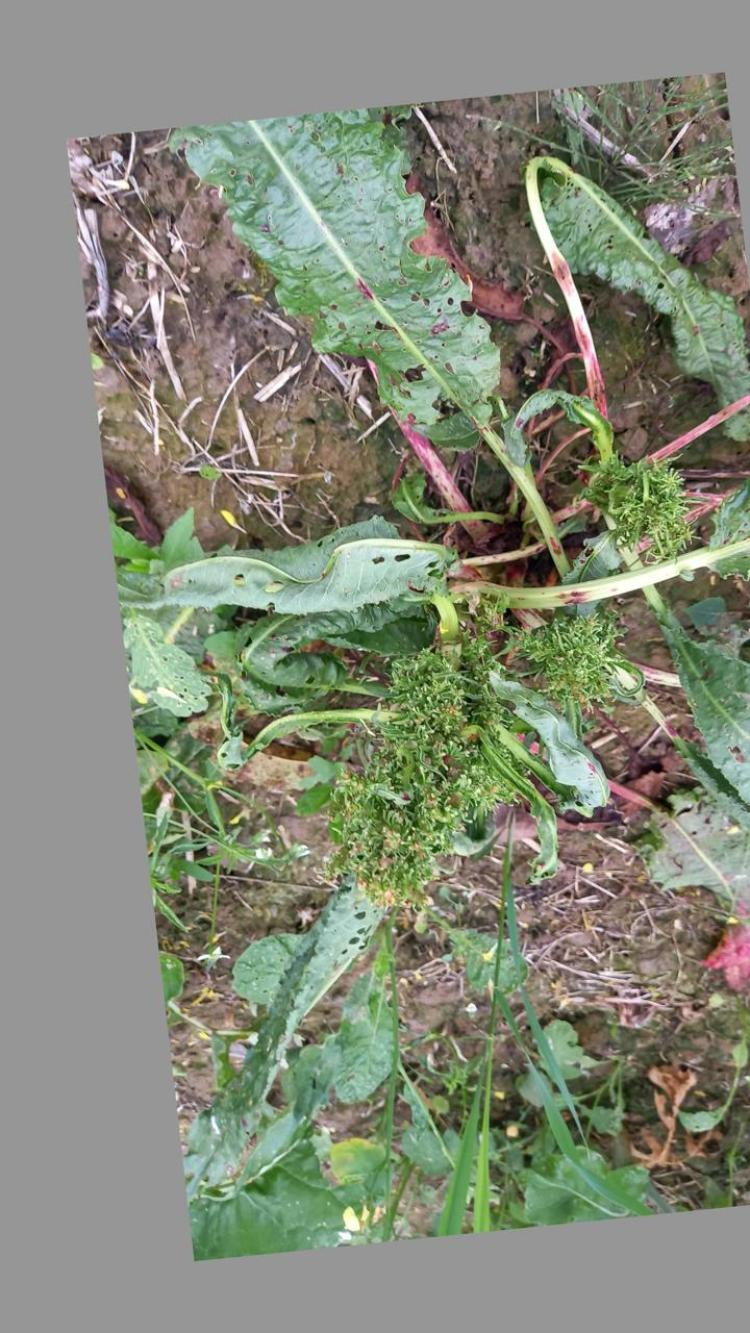zhavel: (258, 391, 750, 1027)
